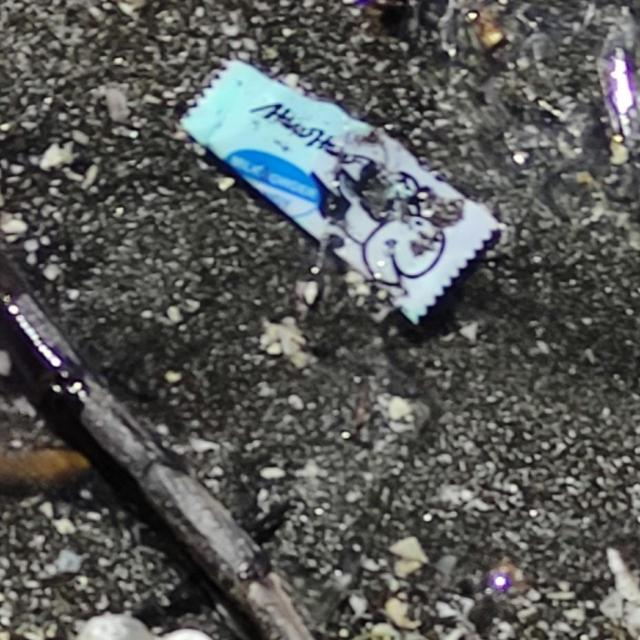plastic_waste: (183, 56, 503, 338)
